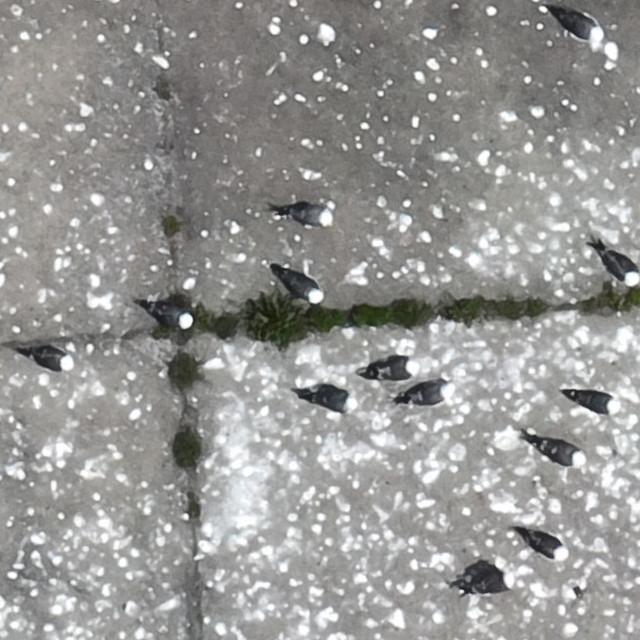umineko: (536, 439, 582, 465), (308, 388, 356, 412), (604, 252, 638, 284), (560, 13, 600, 40), (284, 275, 321, 303), (150, 304, 194, 326), (573, 392, 617, 414), (403, 385, 449, 406), (468, 573, 516, 593), (528, 534, 566, 559), (372, 360, 418, 380), (30, 348, 72, 369), (288, 207, 332, 227)
